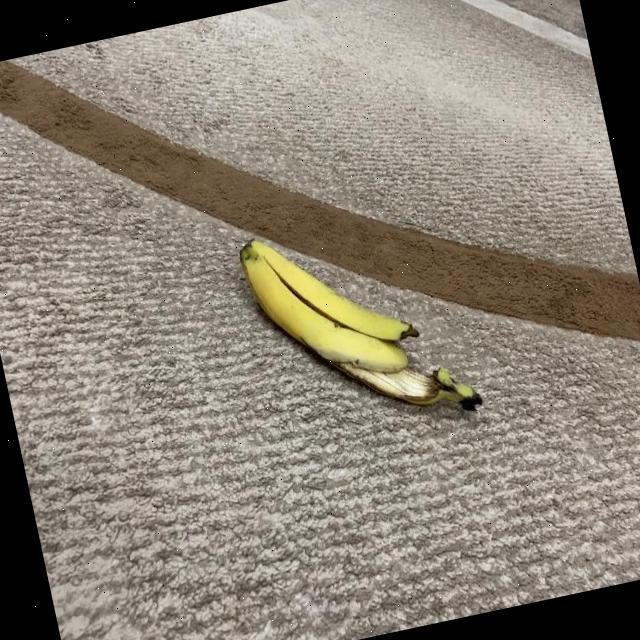banana-peel: (234, 197, 484, 452)
